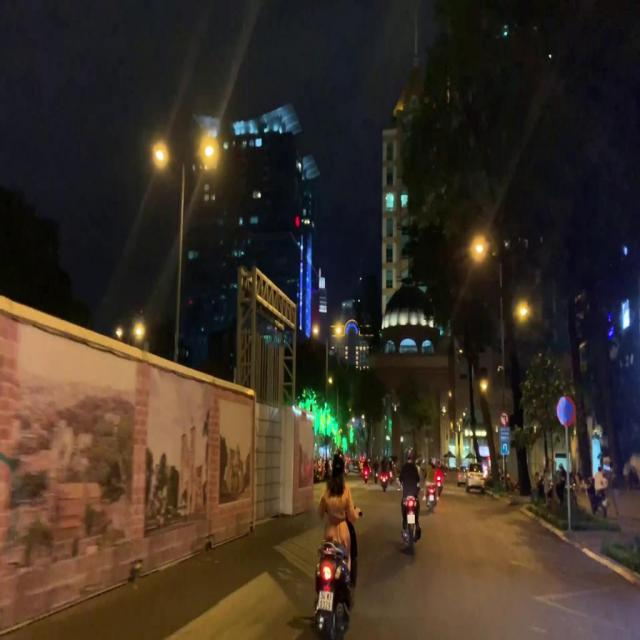cam_do_xe: (556, 394, 576, 429)
cam_re_trai: (500, 411, 509, 427)
cho_quay_xe: (502, 441, 509, 456)
khac: (500, 426, 511, 441)
